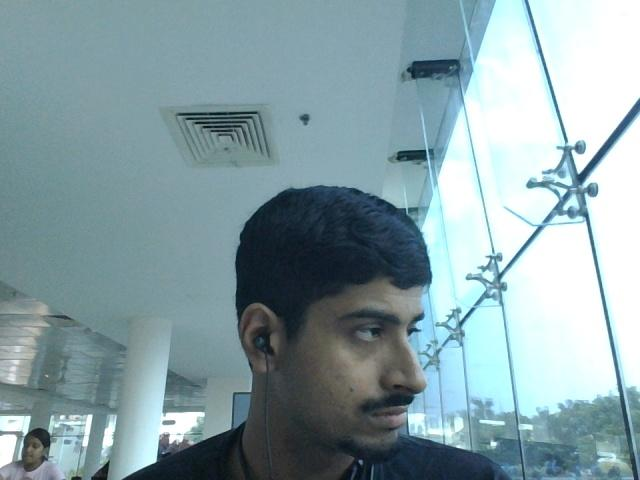average: (225, 172, 482, 460)
